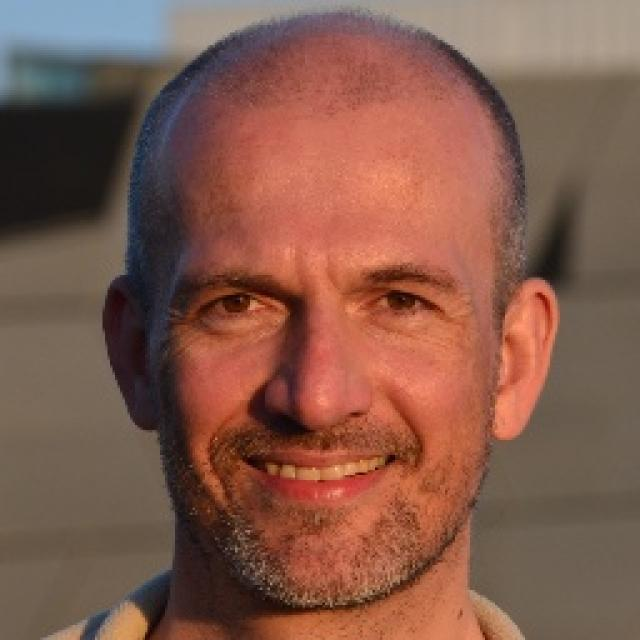earlobe: (493, 277, 558, 442), (101, 275, 165, 435)
